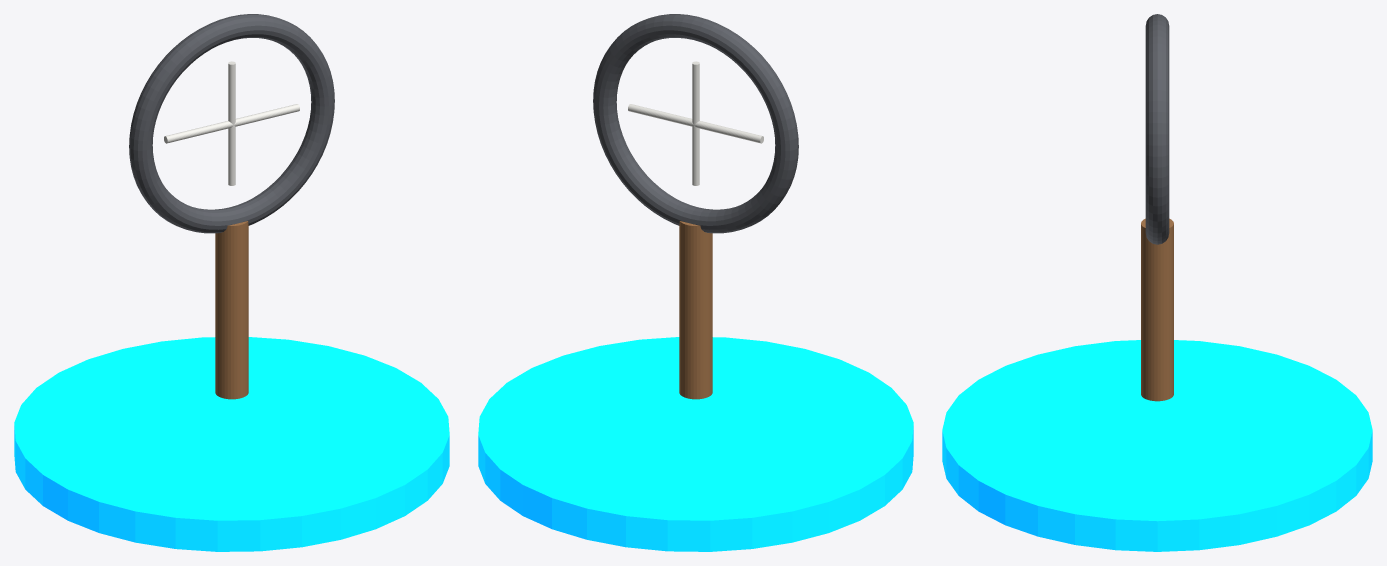
Rendered from sports_tennis_racket.glb.
The picture shows the model from 3 angles, left to right: view 1: azimuth 30°, elevation 25°; view 2: azimuth 150°, elevation 25°; view 3: azimuth 270°, elevation 25°; orthographic projection.
Parts seen in each view (by area): view 1: 04_12_Popular_Sports_Tennis_Racket_ROOT_base, 04_12_Popular_Sports_Tennis_Racket_part_01, 04_12_Popular_Sports_Tennis_Racket_part_02, 04_12_Popular_Sports_Tennis_Racket_part_03, 04_12_Popular_Sports_Tennis_Racket_part_04; view 2: 04_12_Popular_Sports_Tennis_Racket_ROOT_base, 04_12_Popular_Sports_Tennis_Racket_part_01, 04_12_Popular_Sports_Tennis_Racket_part_02, 04_12_Popular_Sports_Tennis_Racket_part_03, 04_12_Popular_Sports_Tennis_Racket_part_04; view 3: 04_12_Popular_Sports_Tennis_Racket_ROOT_base, 04_12_Popular_Sports_Tennis_Racket_part_01, 04_12_Popular_Sports_Tennis_Racket_part_02.
Part boxes in pixels (box(x1,y1,x2,y2)): 04_12_Popular_Sports_Tennis_Racket_ROOT_base: box(14, 337, 449, 551); 04_12_Popular_Sports_Tennis_Racket_part_01: box(129, 14, 334, 233); 04_12_Popular_Sports_Tennis_Racket_part_02: box(215, 221, 248, 399); 04_12_Popular_Sports_Tennis_Racket_part_03: box(164, 104, 299, 143); 04_12_Popular_Sports_Tennis_Racket_part_04: box(228, 61, 235, 185); 04_12_Popular_Sports_Tennis_Racket_ROOT_base: box(478, 337, 913, 551); 04_12_Popular_Sports_Tennis_Racket_part_01: box(593, 14, 798, 233); 04_12_Popular_Sports_Tennis_Racket_part_02: box(679, 221, 712, 399); 04_12_Popular_Sports_Tennis_Racket_part_03: box(628, 104, 763, 143); 04_12_Popular_Sports_Tennis_Racket_part_04: box(692, 61, 699, 185); 04_12_Popular_Sports_Tennis_Racket_ROOT_base: box(942, 340, 1372, 551); 04_12_Popular_Sports_Tennis_Racket_part_01: box(1145, 14, 1169, 244); 04_12_Popular_Sports_Tennis_Racket_part_02: box(1141, 218, 1173, 401).
Bounding box in the file's own units: 0.76 × 0.85 × 0.76.
